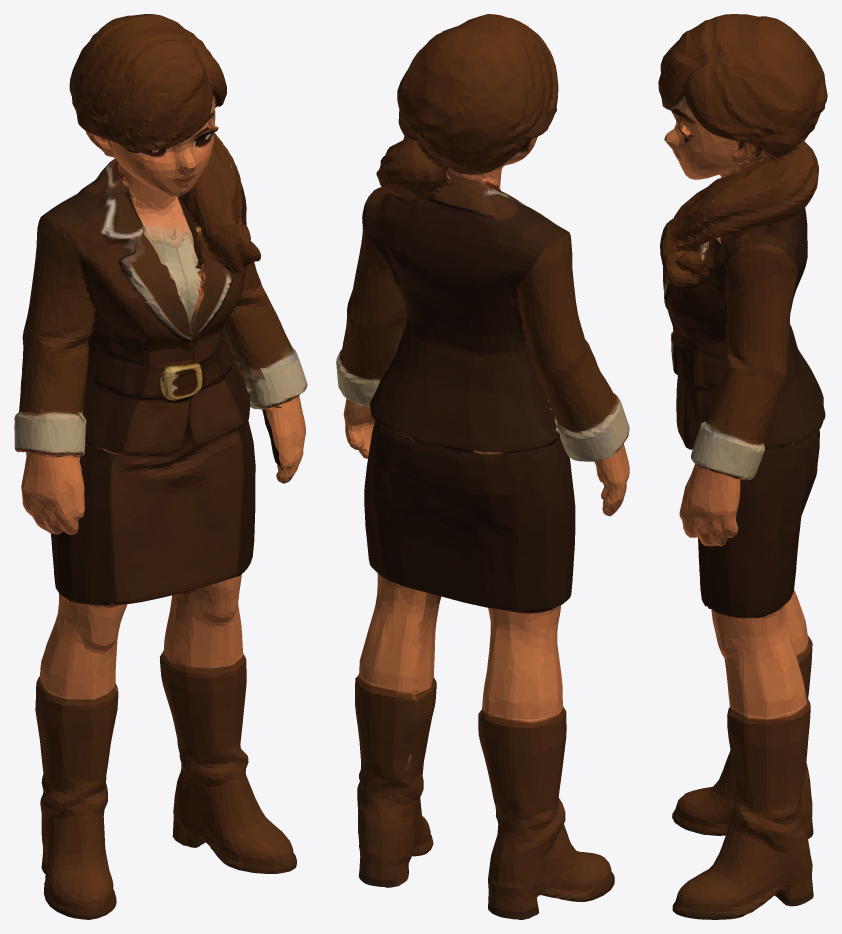
The model's file is teacher_female2.glb.
3 views of the same model, side by side, from view 1: azimuth 30°, elevation 25°; view 2: azimuth 150°, elevation 25°; view 3: azimuth 270°, elevation 25° (orthographic).
Visible parts, largest first — view 1: teacherFemale4.obj; view 2: teacherFemale4.obj; view 3: teacherFemale4.obj.
Boxes of the visible parts, x1=… form: teacherFemale4.obj: x1=14, y1=14, x2=307, y2=919; teacherFemale4.obj: x1=336, y1=14, x2=629, y2=919; teacherFemale4.obj: x1=658, y1=14, x2=827, y2=919.
Size of the model in its own units: 0.6545 by 1.9 by 0.3472.
Materials: 1 (1 with a texture image).
